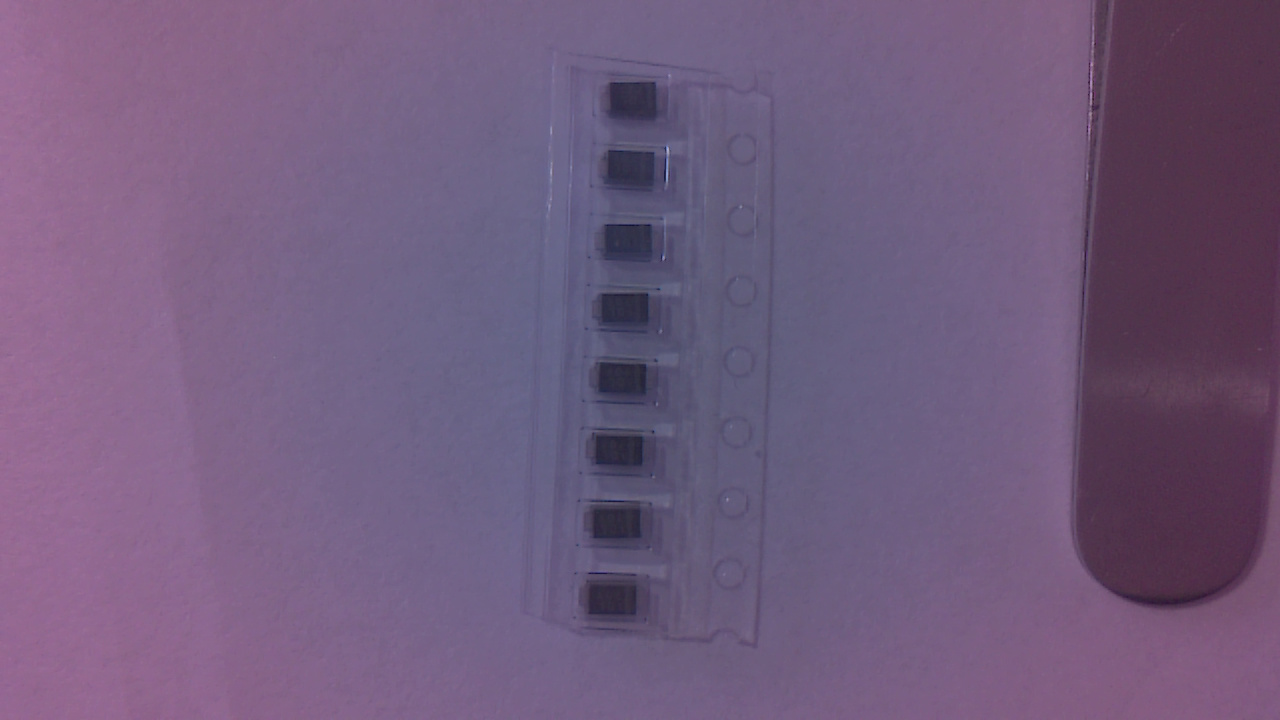Diode: (580, 580, 651, 624), (601, 83, 673, 126), (586, 505, 657, 547), (589, 433, 661, 474), (603, 152, 670, 194), (592, 364, 662, 403), (600, 227, 665, 268), (595, 296, 668, 332)
